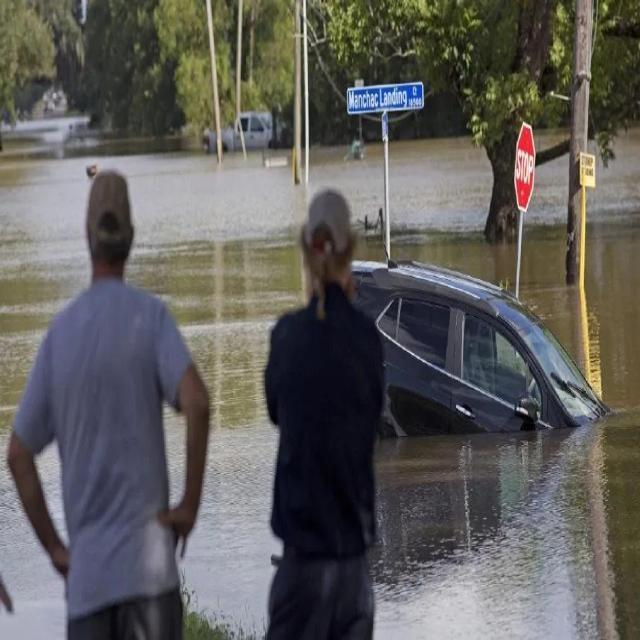water: (3, 120, 383, 635), (369, 130, 637, 639), (389, 136, 513, 293)
